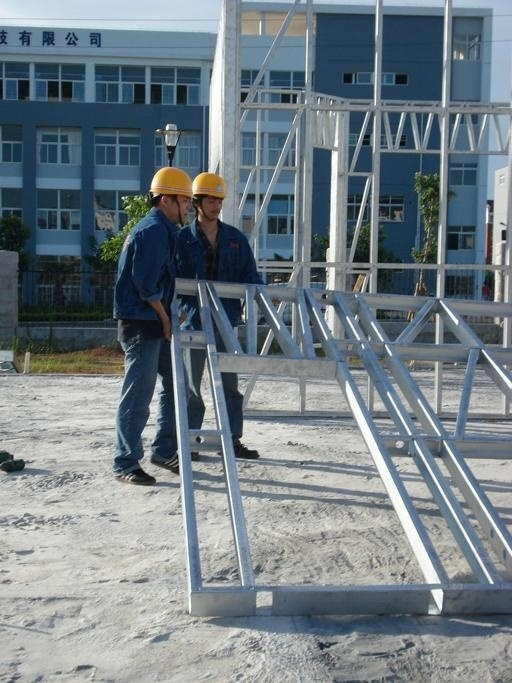People: (113, 167, 191, 485), (178, 172, 260, 282), (222, 373, 257, 458), (185, 348, 204, 428), (224, 298, 240, 329)
helmet: (149, 167, 192, 195), (192, 172, 226, 198)
